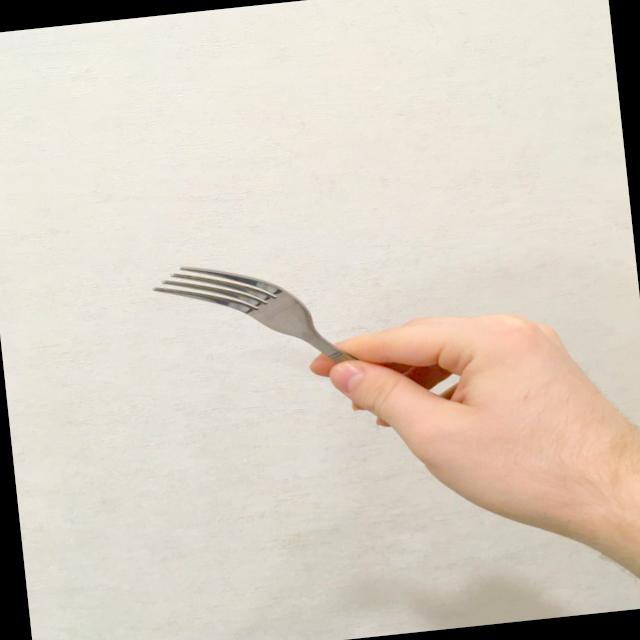fork: (143, 235, 453, 434)
